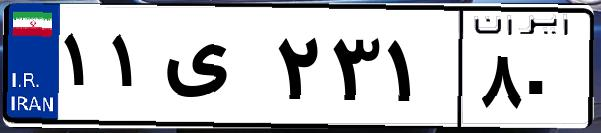0: (525, 38, 570, 115)
1: (385, 28, 445, 110), (57, 26, 110, 100), (110, 28, 158, 98)
2: (270, 28, 330, 110)
3: (330, 28, 385, 110)
8: (475, 38, 525, 113)
ی: (158, 20, 270, 120)
